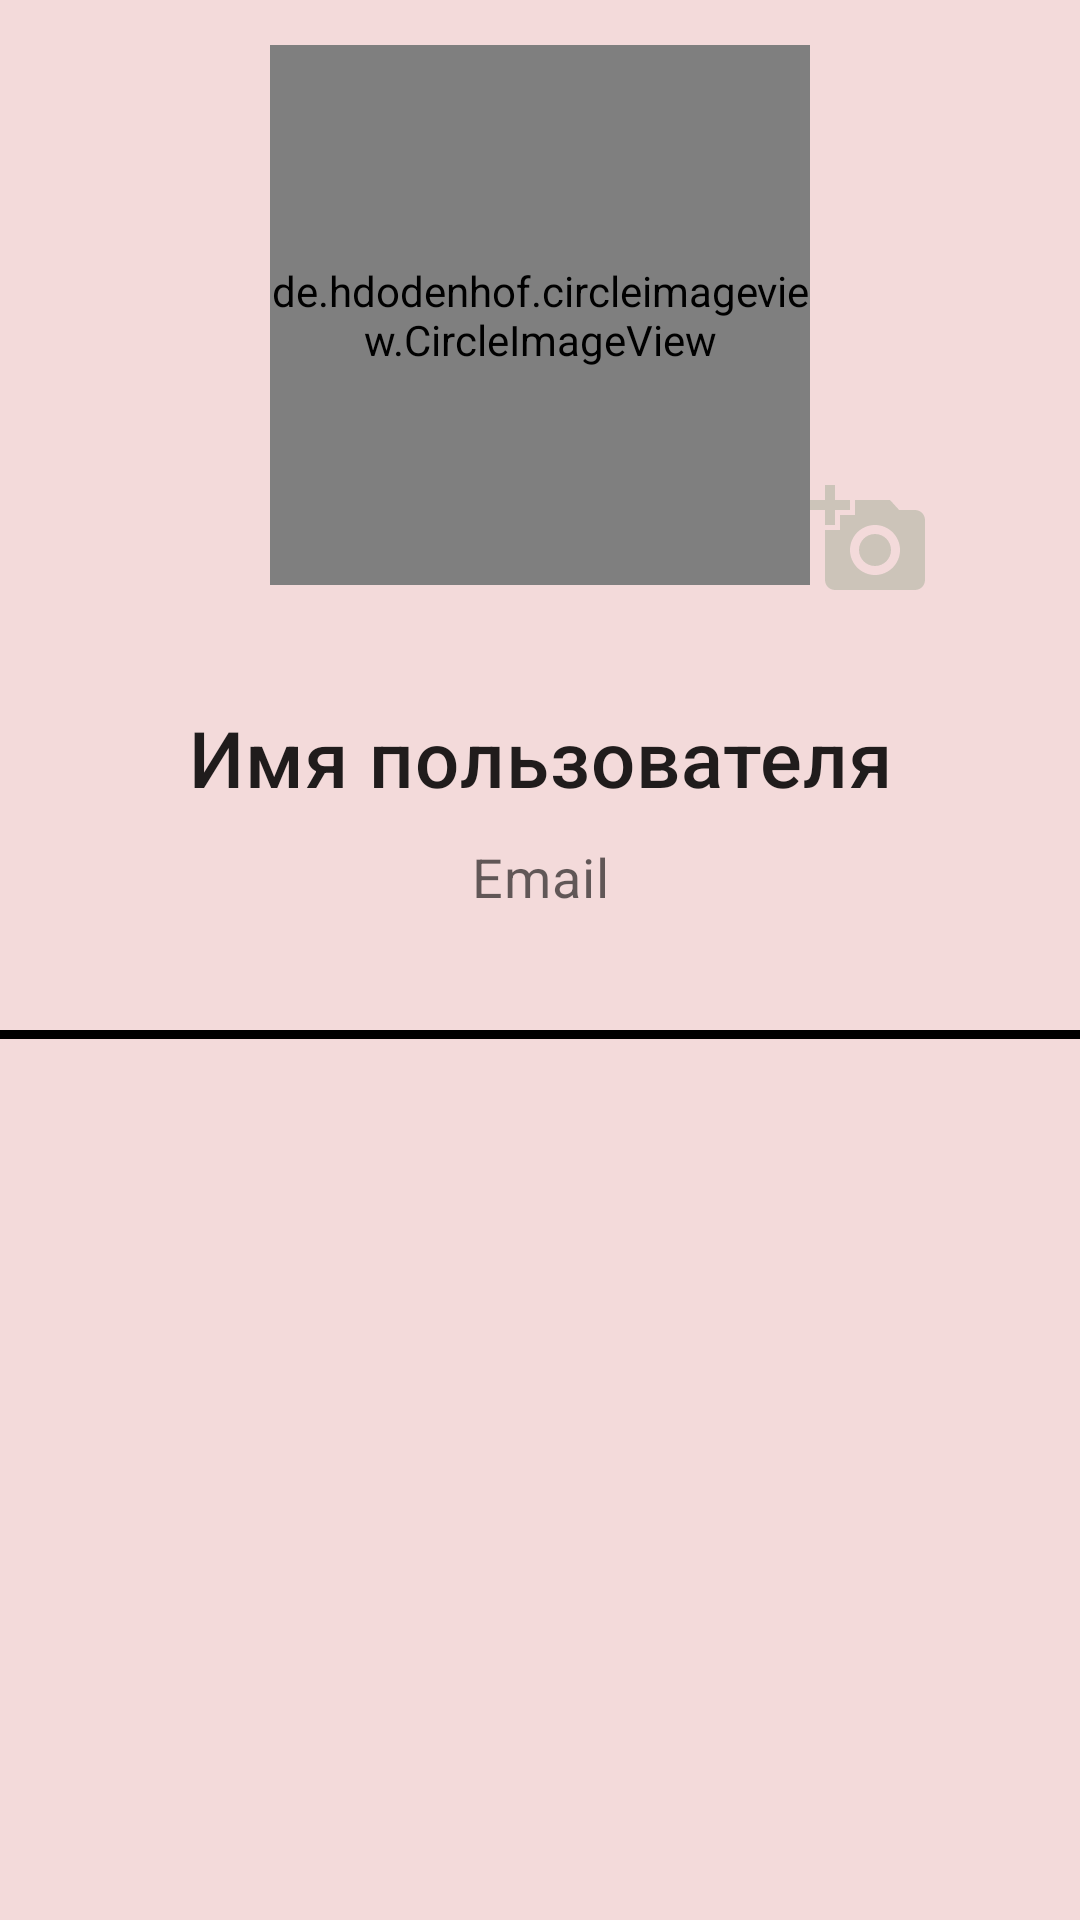

Locate icon controls on the screen. Image size 1080w x 1920h, boxes as (x1, y1, x2, y2).
add photo: (825, 500, 925, 590)
